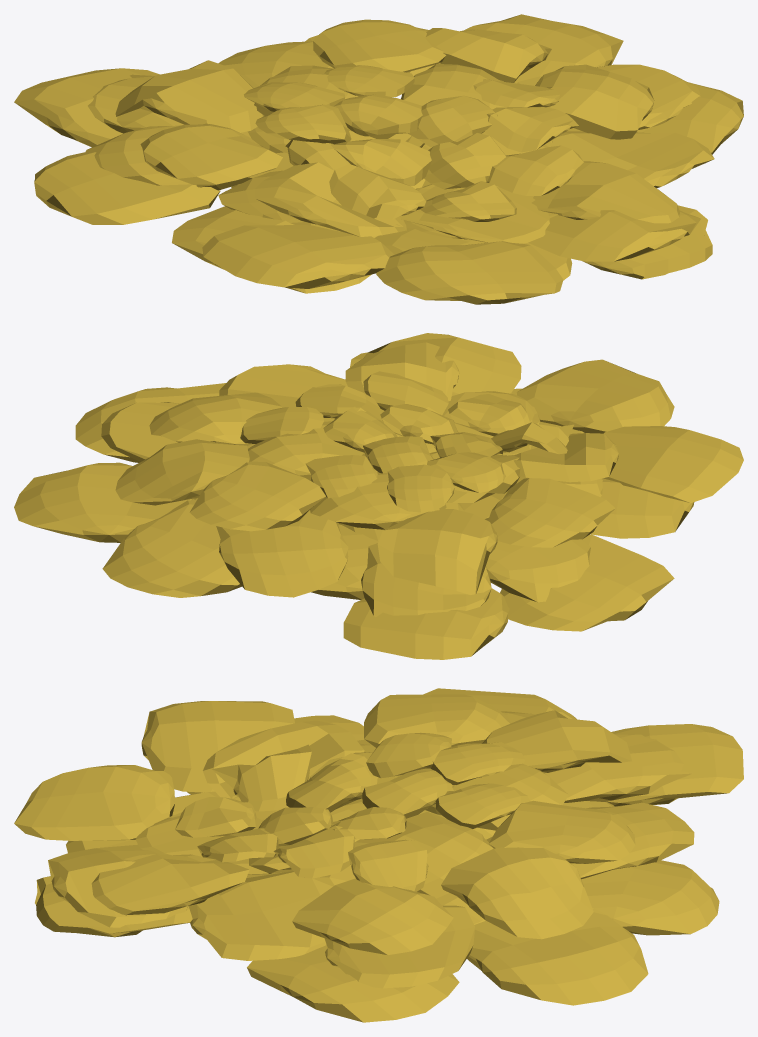
The model's file is ScrambledEggs Installer (4).fbx.
The picture shows the model from 3 angles, top to bottom: view 1: azimuth 30°, elevation 25°; view 2: azimuth 150°, elevation 25°; view 3: azimuth 270°, elevation 25°; orthographic projection. The views are drawn at different scales.
Visible parts, largest first — view 1: ScrambledEggs; view 2: ScrambledEggs; view 3: ScrambledEggs.
Part boxes in pixels (x1,y1,x2,y2): ScrambledEggs: (14, 14, 743, 304); ScrambledEggs: (14, 333, 743, 659); ScrambledEggs: (14, 688, 743, 1022).
Size of the model in its own units: 4.35 by 0.4731 by 4.18.
